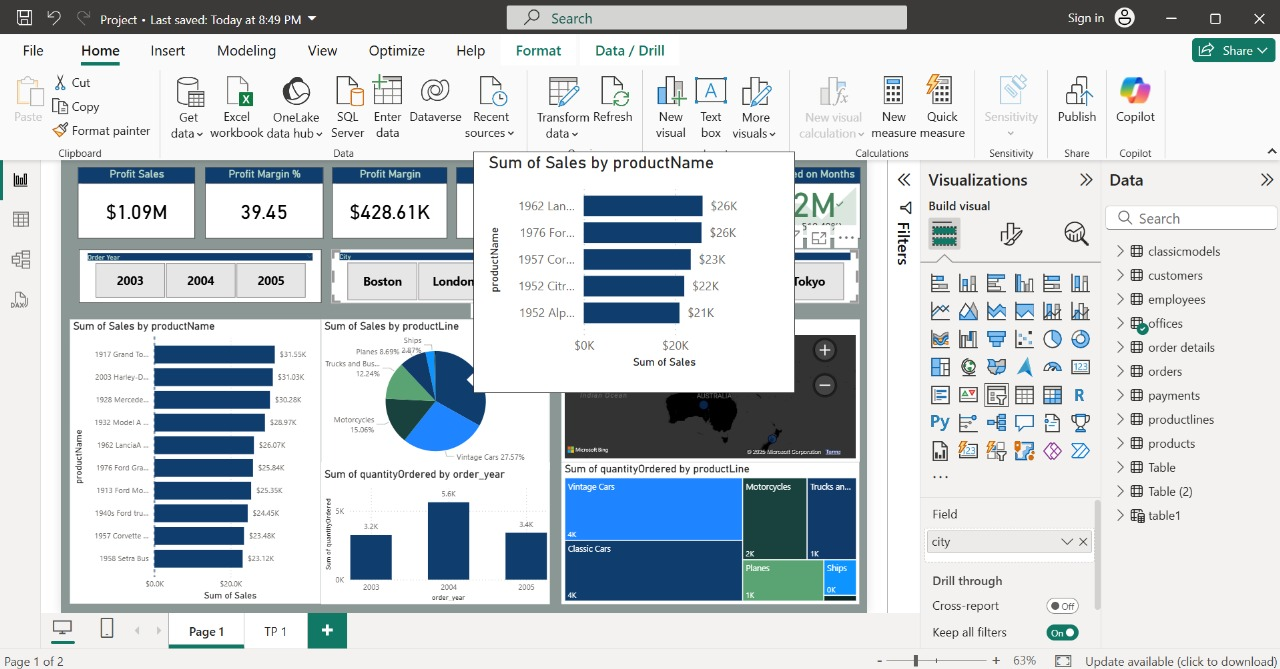

The page's visual inventory and layout, read from the dashboard file:
{"tool":"powerbi","page":{"name":"Page 1","canvas":[1280,720],"ordinal":0},"visuals":[{"type":"card","title":"Profit Margin","fields":{"Values":["order details.total_profit"]},"box":[430.7,11.3,183,113.3],"z":0},{"type":"card","title":"Top Selling Product","fields":{"Values":["order details.MostOrderedProduct"]},"box":[625.1,12.7,396.1,112.9],"z":1000},{"type":"barChart","fields":{"Category":["products.productName"],"Y":["Sum(order details.Sales)"]},"box":[15,253.3,398.3,451.7],"z":2000},{"type":"pieChart","fields":{"Category":["products.productLine"],"Y":["Sum(order details.Sales)"]},"box":[413.6,252.9,362.7,240.2],"z":3000},{"type":"slicer","fields":{"Values":["orders.order_year"]},"box":[14.3,141.6,402.4,85.9],"z":4000},{"type":"kpi","title":"Sales 2004 Based on Months","fields":{"Indicator":["orders.sales_2004"],"Goal":["orders.sales_2003"],"TrendLine":["orders.Month Name"]},"box":[1036.3,11.3,233.2,113.3],"z":5000},{"type":"map","fields":{"Size":["CountNonNull(customers.customerNumber)"],"Category":["customers.country"]},"box":[795.3,251.3,472.4,227.5],"z":6000},{"type":"treemap","fields":{"Group":["productlines.productLine"],"Values":["Sum(order details.quantityOrdered)"]},"box":[795,480,473.3,225],"z":7000},{"type":"clusteredColumnChart","fields":{"Y":["Sum(order details.quantityOrdered)"],"Category":["orders.order_year"]},"box":[413.3,480,363.3,225],"z":8000},{"type":"card","title":"Profit Margin %","fields":{"Values":["classicmodels.Profit_Margin_%"]},"box":[225.9,12.7,190.9,112.9],"z":9000},{"type":"card","title":"Profit Sales","fields":{"Values":["Sum(order details.Sales)"]},"box":[14.3,12.7,198.8,112.9],"z":10000},{"type":"slicer","fields":{"Values":["offices.city"]},"box":[431.1,141.6,838.3,84.3],"z":11000}]}

Visuals, with their boxes on the page's 1280x720 design canvas (x1, y1, x2, y2). These are canvas units, not pixel positions in the 1280x669 screenshot, which may show the page scaled, cropped or inside an application window:
"Profit Margin" card: left=431, top=11, right=614, bottom=125
"Top Selling Product" card: left=625, top=13, right=1021, bottom=126
barChart - products.productName x Sum(order details.Sales): left=15, top=253, right=413, bottom=705
pieChart - products.productLine x Sum(order details.Sales): left=414, top=253, right=776, bottom=493
slicer - orders.order_year: left=14, top=142, right=417, bottom=228
"Sales 2004 Based on Months" kpi: left=1036, top=11, right=1270, bottom=125
map - CountNonNull(customers.customerNumber) x customers.country: left=795, top=251, right=1268, bottom=479
treemap - productlines.productLine x Sum(order details.quantityOrdered): left=795, top=480, right=1268, bottom=705
clusteredColumnChart - Sum(order details.quantityOrdered) x orders.order_year: left=413, top=480, right=777, bottom=705
"Profit Margin %" card: left=226, top=13, right=417, bottom=126
"Profit Sales" card: left=14, top=13, right=213, bottom=126
slicer - offices.city: left=431, top=142, right=1269, bottom=226
